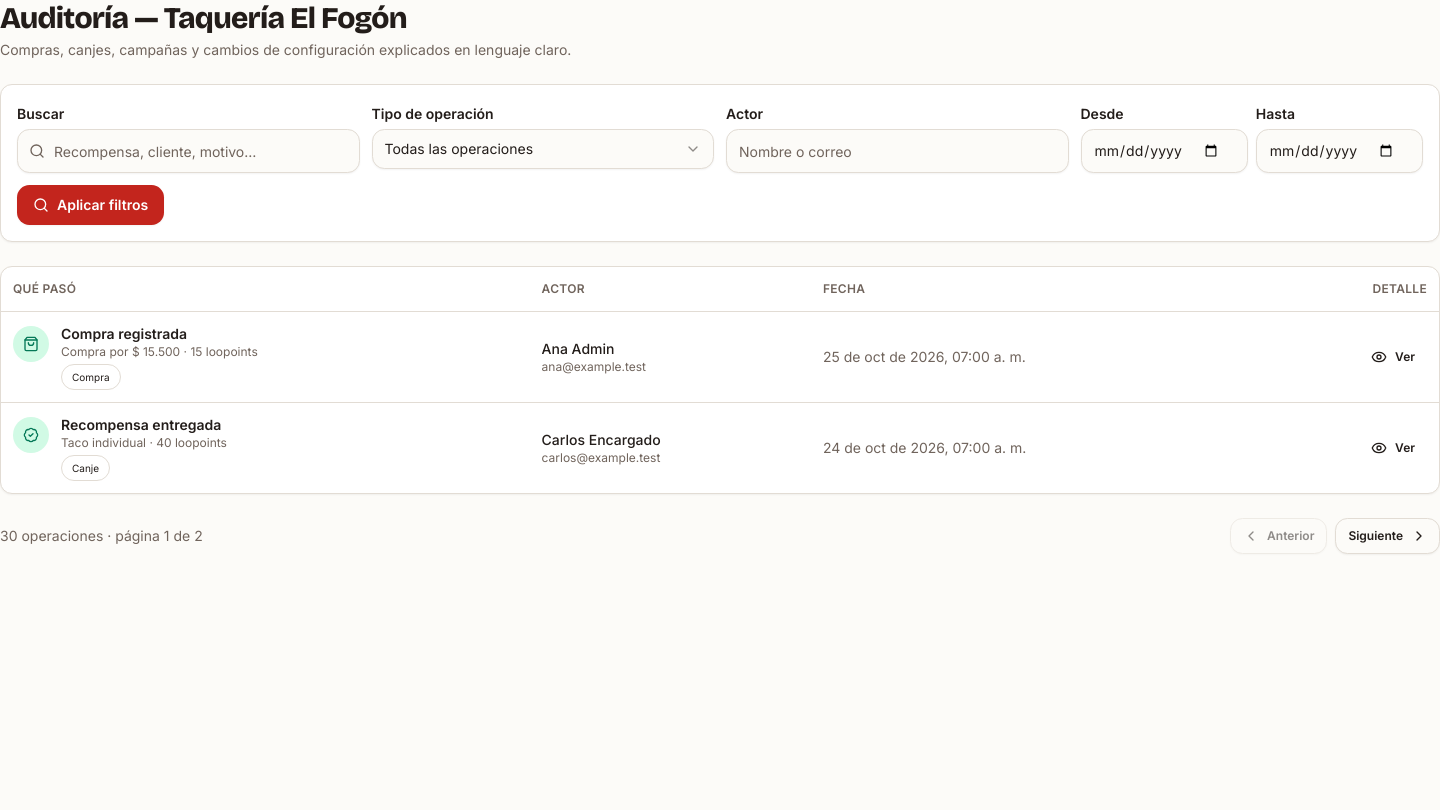
Test: AuditPage › abre el detalle con los campos formateados y el JSON bajo demanda
The image size is (1440, 810).
Click the button with aria-label "Ver detalle de Compra registrada".
click(1393, 356)  # box [1359,338,1427,374]
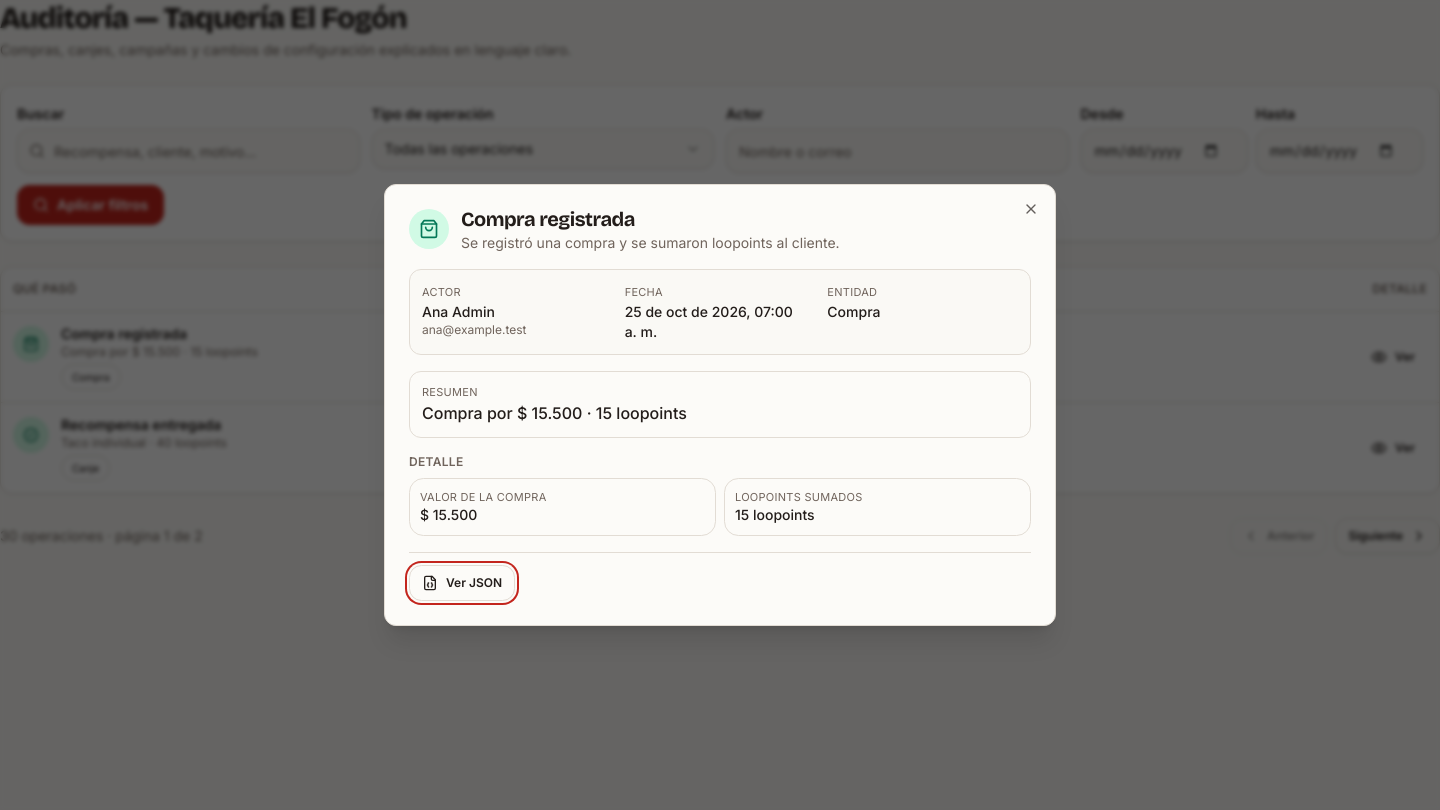
Result: the text "Valor de la compra" is shown at [420,490,546,504]
Result: the text "Compra por $ 15.500 · 15 loopoints" is shown at [422,402,687,422]
Result: the text "Loopoints sumados" is shown at [735,490,862,504]
Click the button "Ver JSON".
click(462, 583)  # box [409,565,515,601]
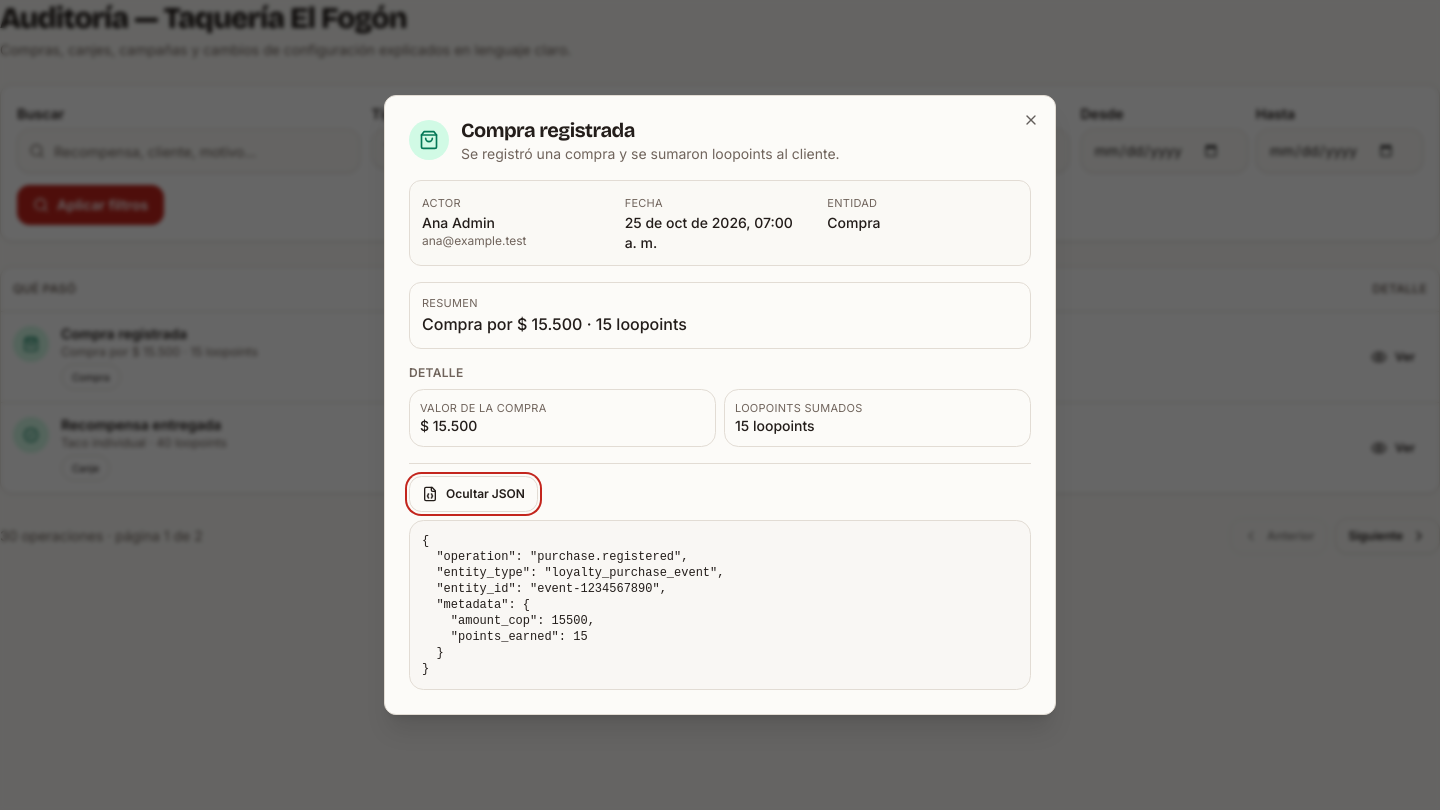
Result: the text "\"amount_cop\"" is shown at [422,534,724,676]
